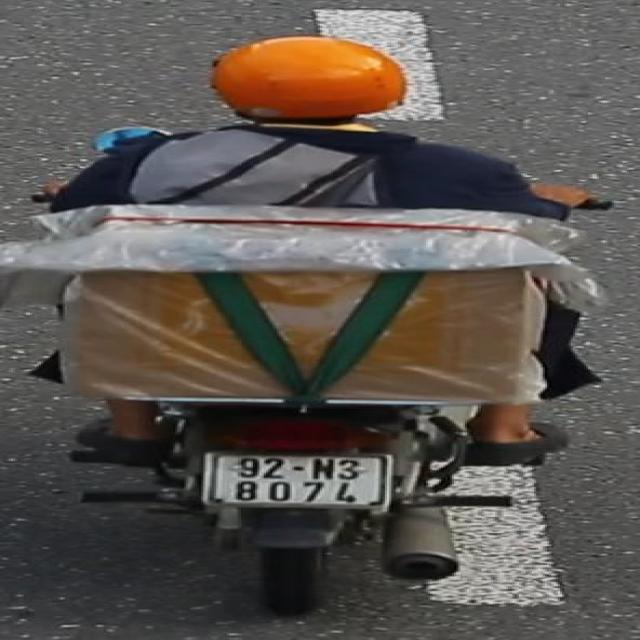LP: (194, 447, 401, 515)
helmet: (208, 32, 415, 138)
